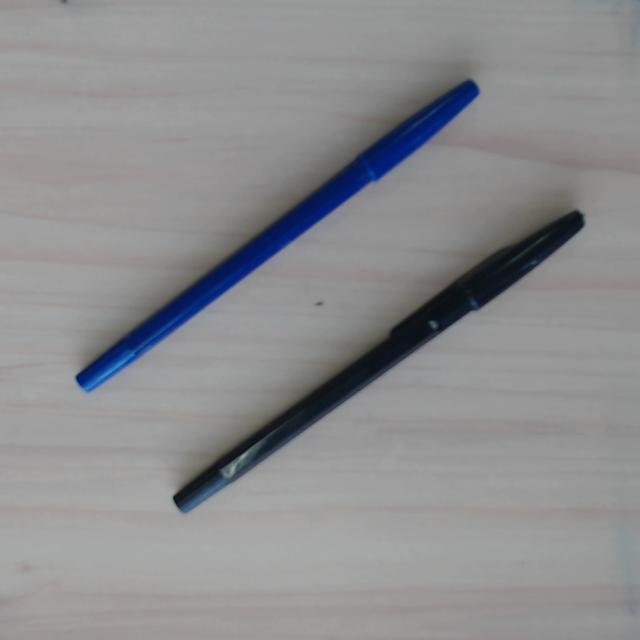Pulpen-Biru: (68, 74, 487, 395)
Pulpen-Hitam: (168, 196, 591, 524)
